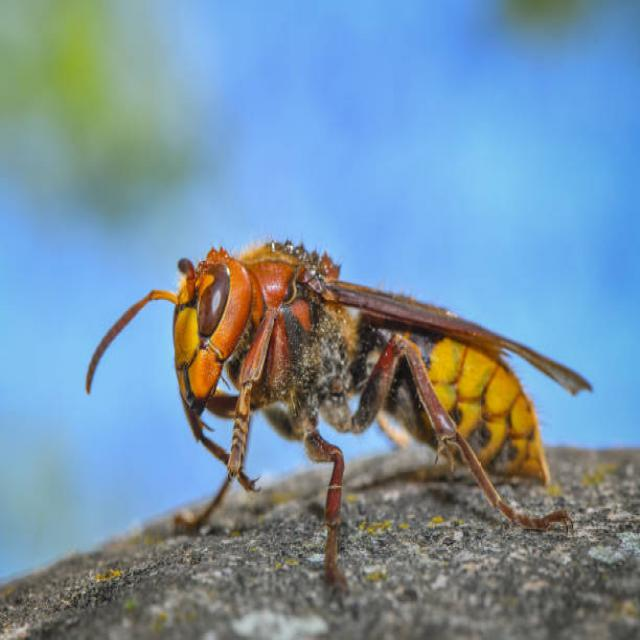Vespa Crabro: (64, 216, 616, 597)
